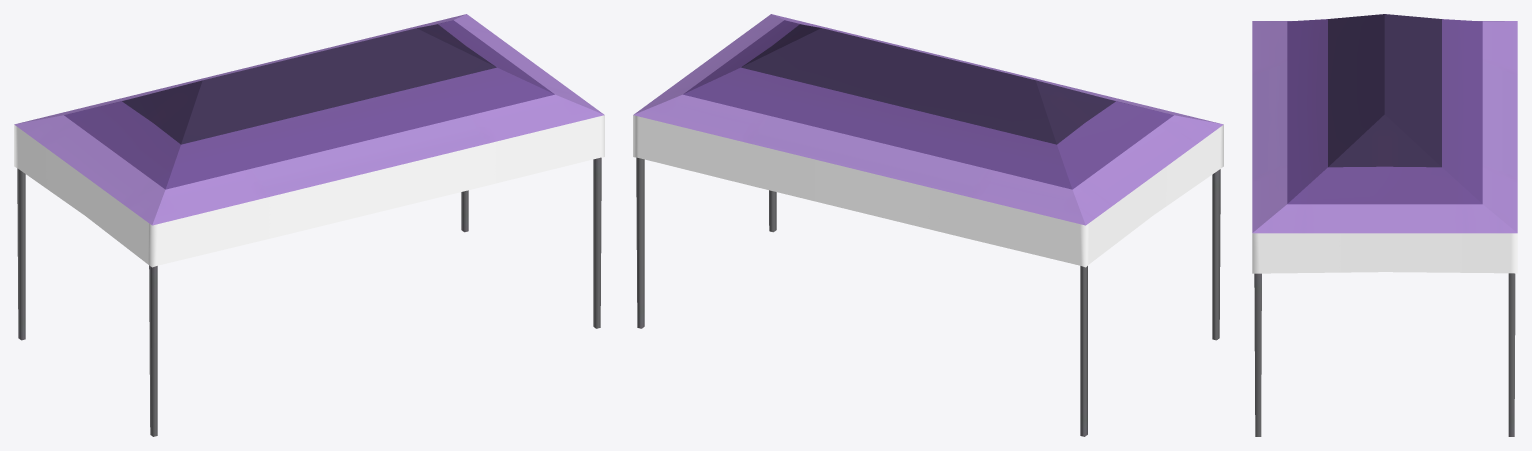
The model's file is BusinessCanopyWide.glb.
3 renders of one model, left to right at view 1: azimuth 30°, elevation 25°; view 2: azimuth 150°, elevation 25°; view 3: azimuth 270°, elevation 25°, orthographic. The views are drawn at different scales.
Parts seen in each view (by area): view 1: BusinessCanopyWide; view 2: BusinessCanopyWide; view 3: BusinessCanopyWide.
Part boxes in pixels (x1,y1,x2,y2): BusinessCanopyWide: (14, 14, 604, 436); BusinessCanopyWide: (633, 14, 1223, 436); BusinessCanopyWide: (1252, 14, 1517, 436).
Bounding box in the file's own units: 8.08 × 4.76 × 4.27.
1 material, 1 textured.
